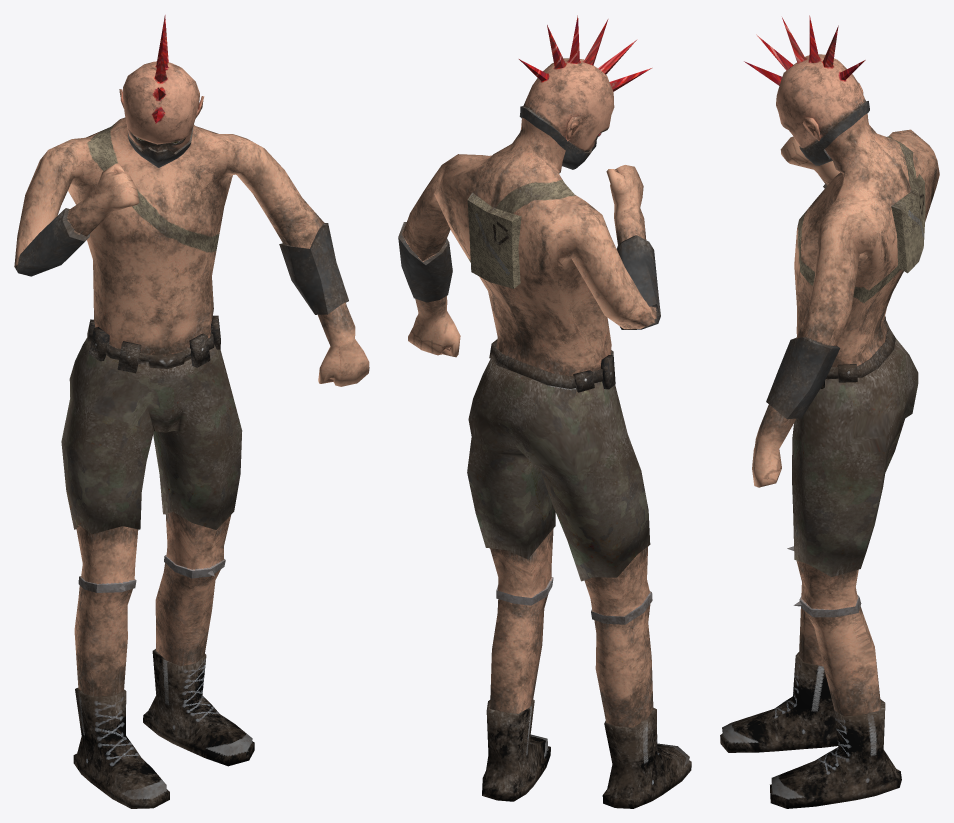
Rendered from Anim_perder_1_npc2.0037.obj.
The picture shows the model from 3 angles, left to right: view 1: azimuth 30°, elevation 25°; view 2: azimuth 150°, elevation 25°; view 3: azimuth 270°, elevation 25°; orthographic projection. The views are drawn at different scales.
Visible parts, largest first — view 1: polySurface1; view 2: polySurface1; view 3: polySurface1.
Part boxes in pixels (left/top/right/bottom): polySurface1: left=14, top=15, right=369, bottom=808; polySurface1: left=398, top=15, right=691, bottom=808; polySurface1: left=720, top=15, right=939, bottom=808.
Bounding box in the file's own units: 4.16 × 9.9 × 2.61.
